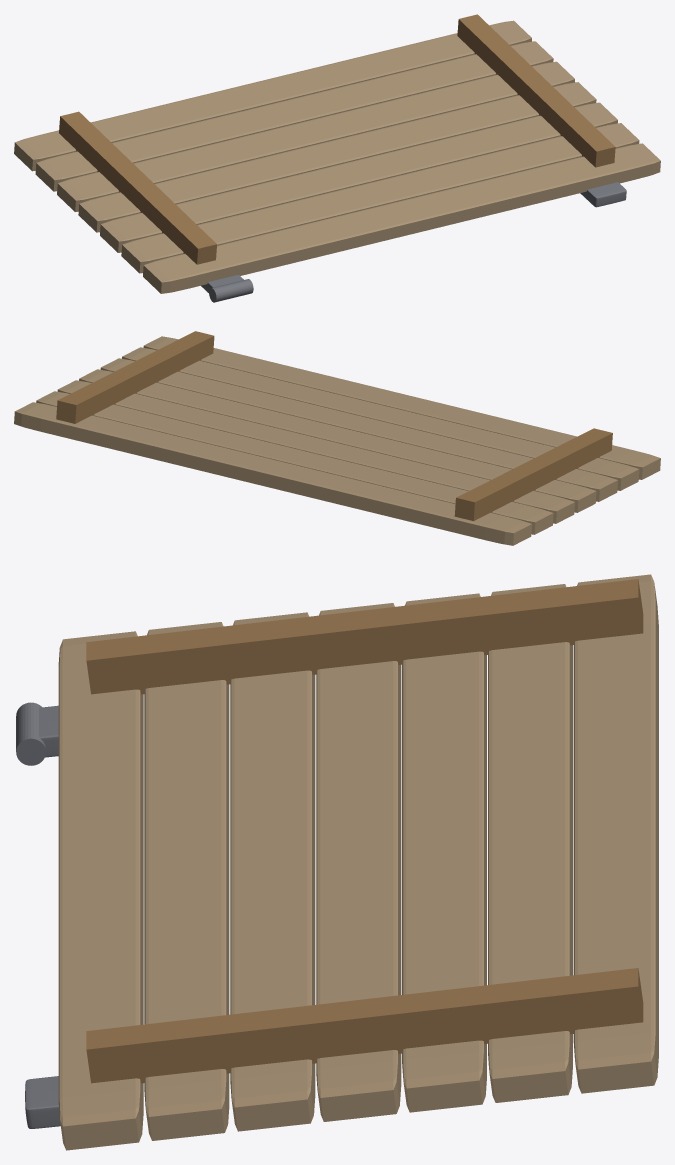
Rendered from crate_lid.gltf.
3 renders of one model, top to bottom at view 1: azimuth 30°, elevation 25°; view 2: azimuth 150°, elevation 25°; view 3: azimuth 270°, elevation 25°, orthographic. The views are drawn at different scales.
Parts seen in each view (by area): view 1: Cube.003; view 2: Cube.003; view 3: Cube.003.
Part boxes in pixels (x1,y1,x2,y2): Cube.003: [14, 14, 660, 302]; Cube.003: [14, 331, 660, 545]; Cube.003: [16, 574, 658, 1150].
Size of the model in its own units: 1.04 by 0.1497 by 0.5815.
